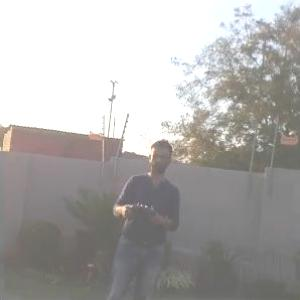follow: (97, 130, 185, 299)
